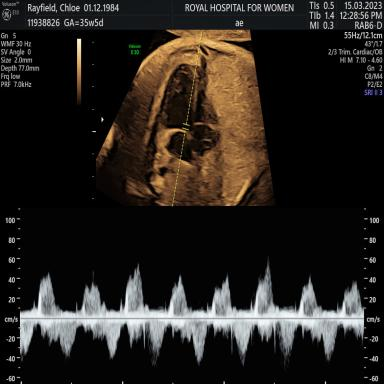Ultrasound-Waves: (24, 215, 361, 384)
